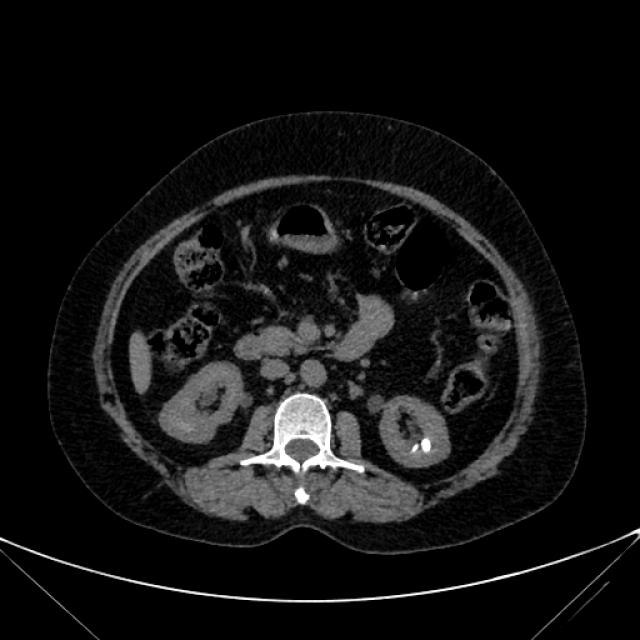kidney: (160, 356, 256, 444), (380, 392, 451, 470)
stone: (421, 435, 434, 456), (409, 440, 418, 454)
